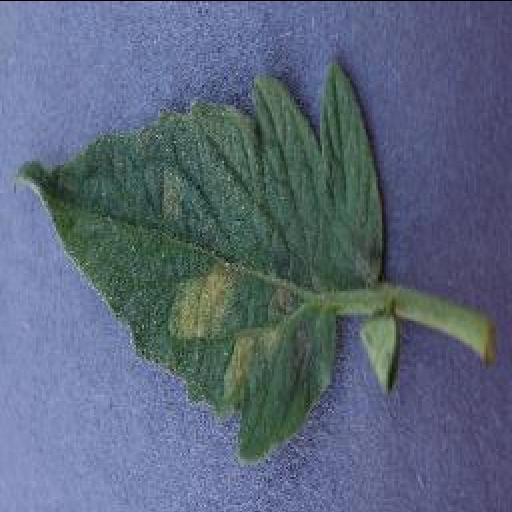disease_tomato: (18, 57, 384, 458)
